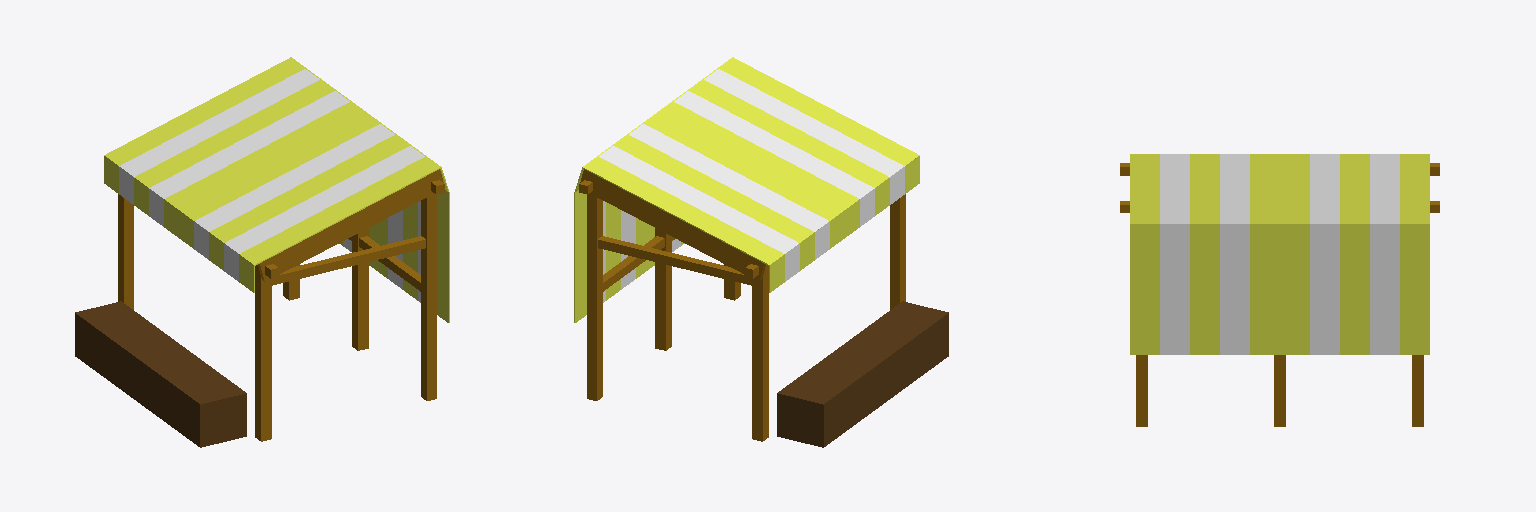
The picture shows the model from 3 angles: view 1: azimuth 30°, elevation 25°; view 2: azimuth 150°, elevation 25°; view 3: azimuth 270°, elevation 25°; orthographic projection.
Visible parts, largest first — view 1: top, cube, back, front, side; view 2: top, cube, back, front, side; view 3: back, top.
Boxes of the visible parts, box(x1,y1,x2,y2) form: top: box(104, 58, 443, 281); cube: box(75, 301, 246, 447); back: box(283, 57, 449, 400); front: box(104, 156, 278, 441); side: box(272, 236, 425, 285); top: box(580, 58, 919, 281); cube: box(777, 301, 948, 447); back: box(574, 57, 740, 400); front: box(745, 156, 919, 441); side: box(598, 236, 751, 285); back: box(1120, 193, 1439, 426); top: box(1130, 154, 1429, 192).
Size of the model in its own units: 2.86 by 2.7 by 3.35.
Materials: 3 (3 with a texture image).